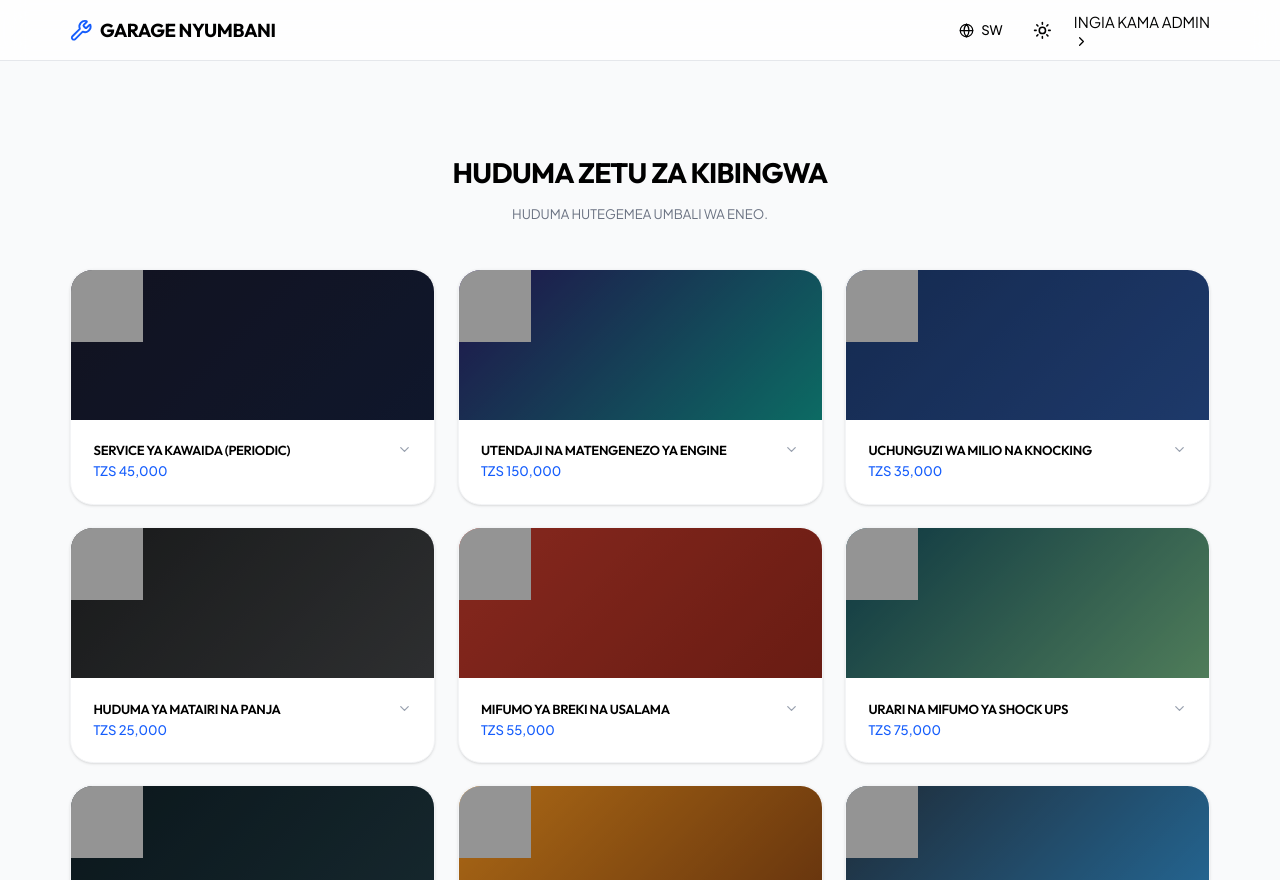
Test: CustomerLanding — Phase 2 › Service Catalog › collapses service when clicked again
(page scrolled)
Click the heading "SERVICE YA KAWAIDA (PERIODIC)". click: (192, 450)
box: [94,442,290,458]
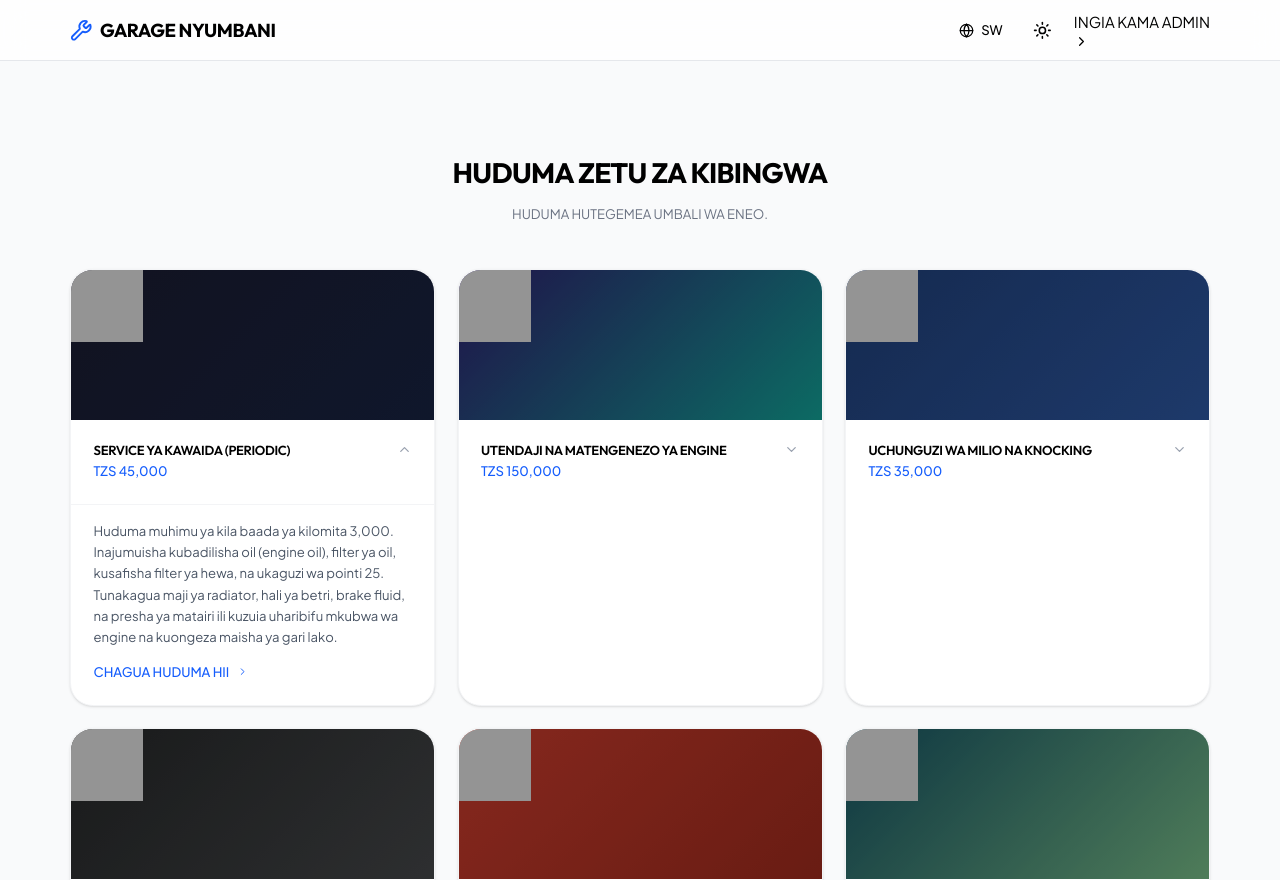
Now the text "Huduma muhimu ya kila baada ya kilomita 3,000. Inajumuisha kubadilisha oil (engine oil), filter ya oil, kusafisha filter" is shown, box [94,522,405,645]
Click the heading "SERVICE YA KAWAIDA (PERIODIC)". click: (192, 450)
box: [94,442,290,458]
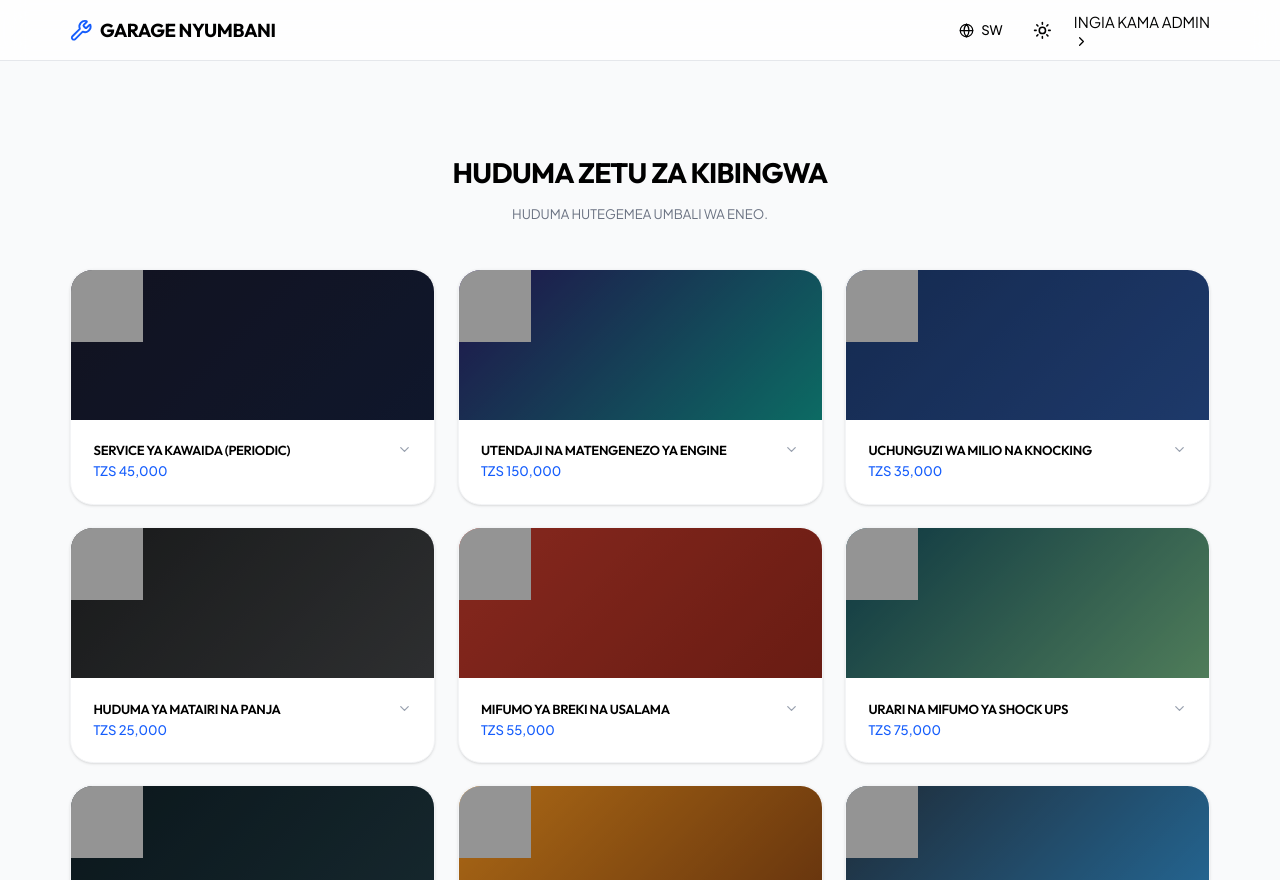
Now the text "Huduma muhimu ya kila baada ya kilomita 3,000. Inajumuisha kubadilisha oil (engine oil), filter ya oil, kusafisha filter" is gone
